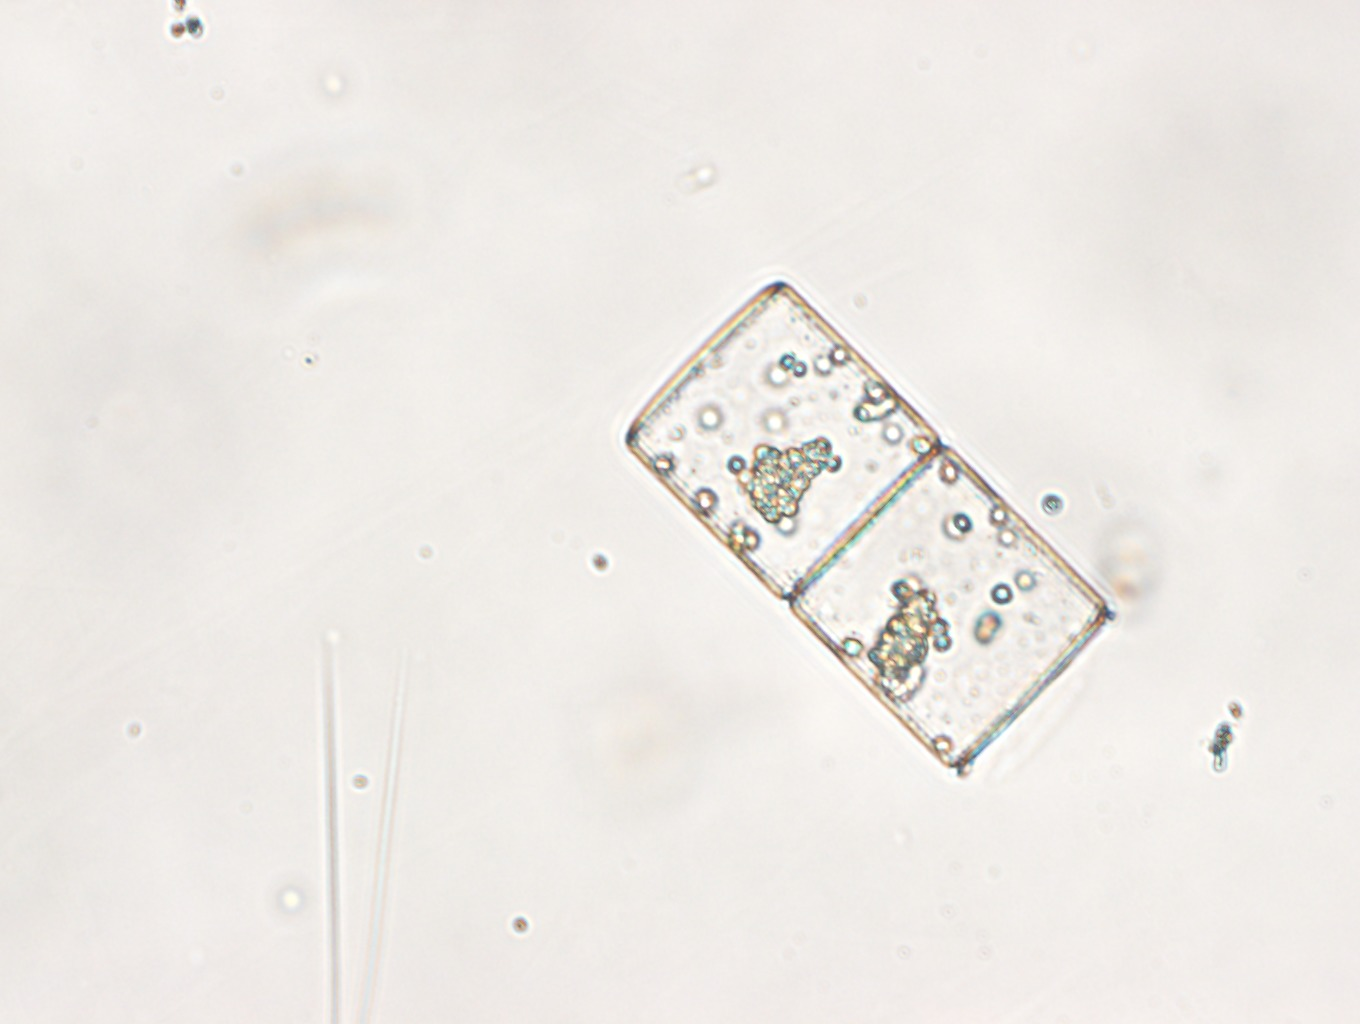guinardia flaccida: (625, 278, 1108, 769)
